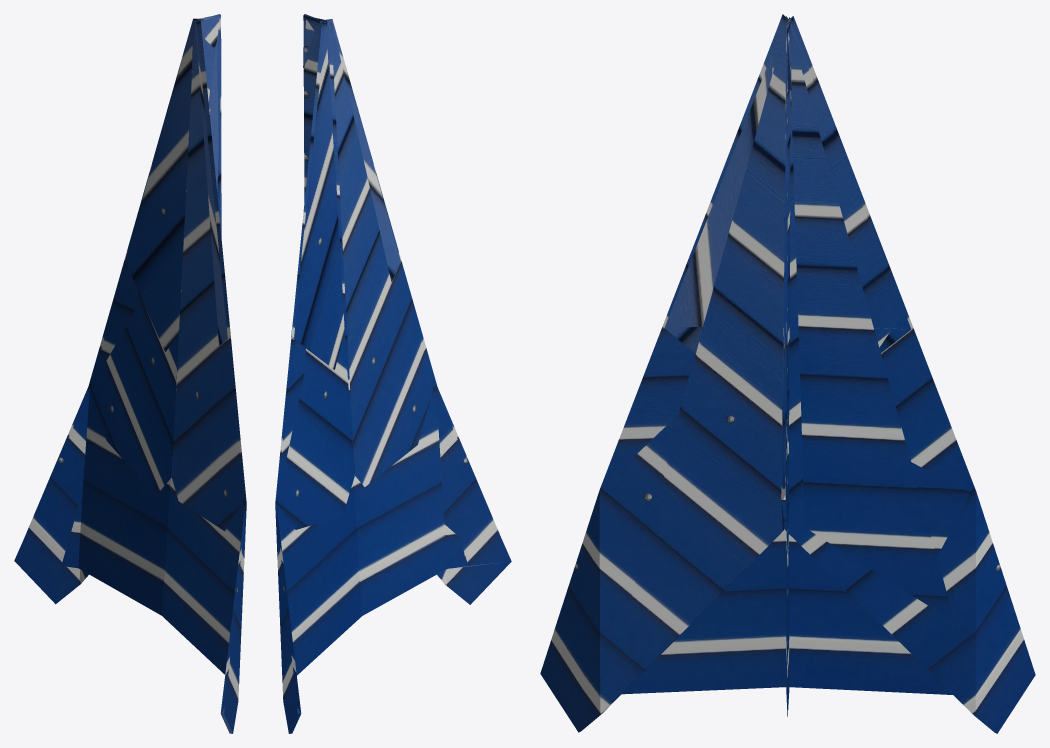
3 renders of one model, left to right at view 1: azimuth 30°, elevation 25°; view 2: azimuth 150°, elevation 25°; view 3: azimuth 270°, elevation 25°, orthographic. The views are drawn at different scales.
Visible parts, largest first — view 1: Origami_Model_53.001; view 2: Origami_Model_53.001; view 3: Origami_Model_53.001.
Part boxes in pixels (left/top/right/bottom): Origami_Model_53.001: left=14, top=14, right=246, bottom=733; Origami_Model_53.001: left=275, top=14, right=511, bottom=733; Origami_Model_53.001: left=540, top=14, right=1035, bottom=733.
Bounding box in the file's own units: 0.0342 × 0.1998 × 0.12.
Materials: 1 (1 with a texture image).
